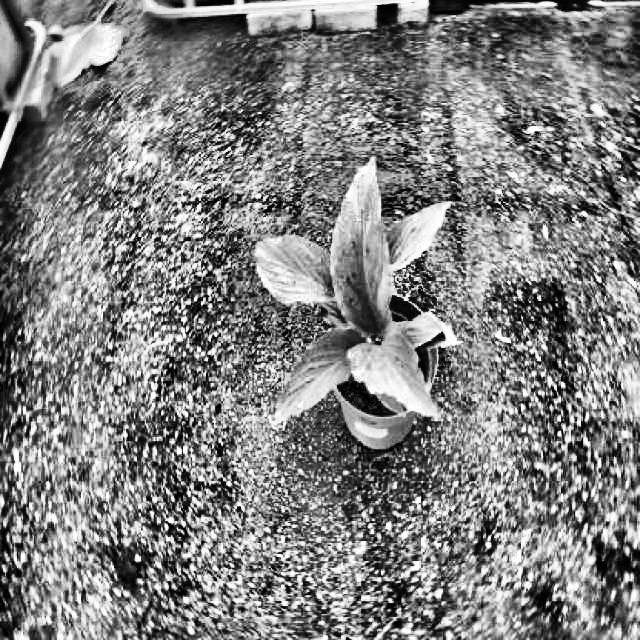plants: (256, 159, 462, 427)
